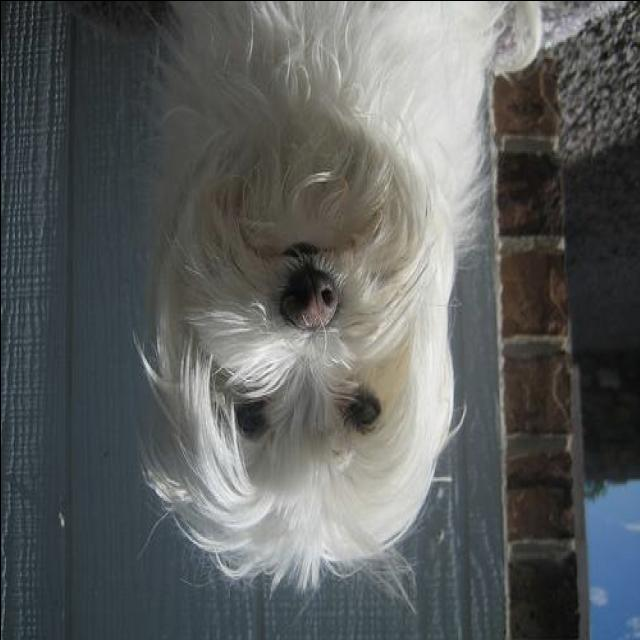maltese_dog: (126, 2, 546, 618)
